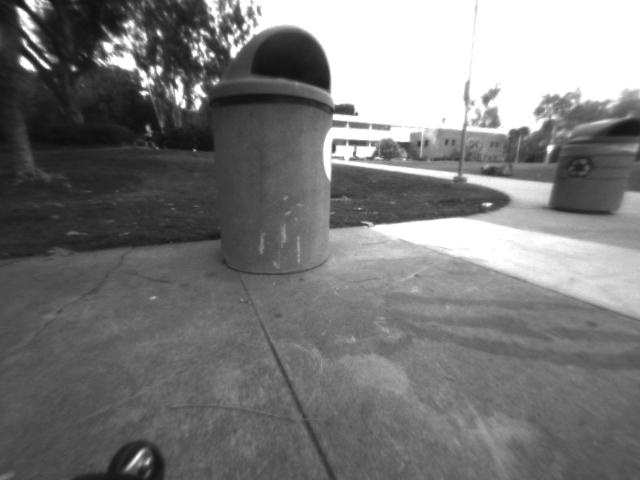trashcan: (208, 24, 343, 284)
